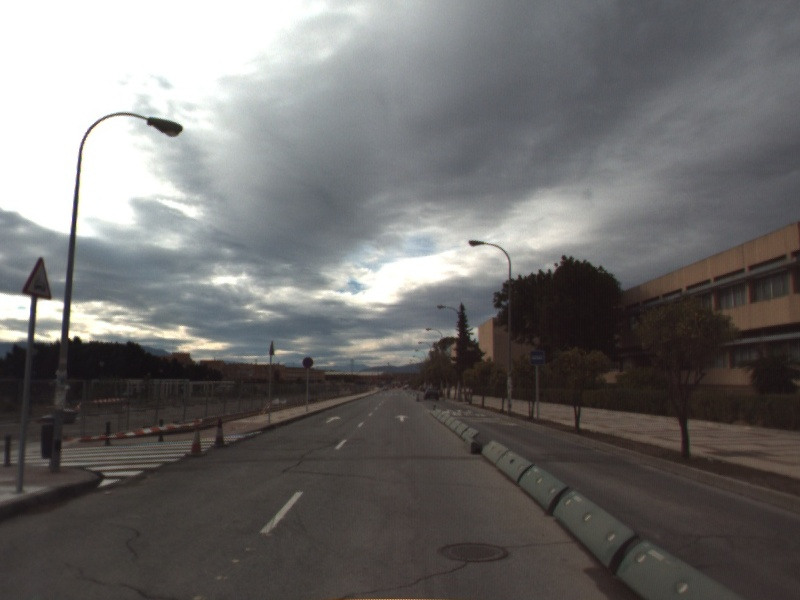STRAIGHT: (323, 414, 344, 425), (393, 412, 412, 424)
